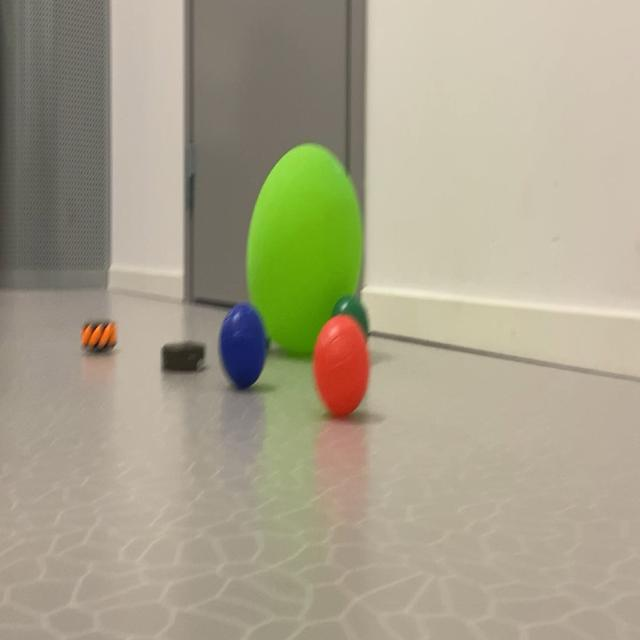7: (307, 317, 392, 436)
green ball: (198, 265, 276, 436)
red ball: (331, 262, 380, 334)
